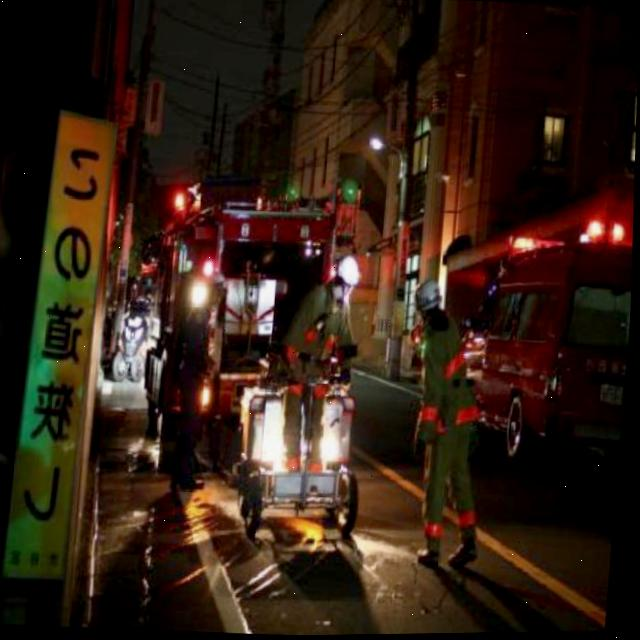emergency: (131, 169, 362, 472), (429, 227, 635, 469)
